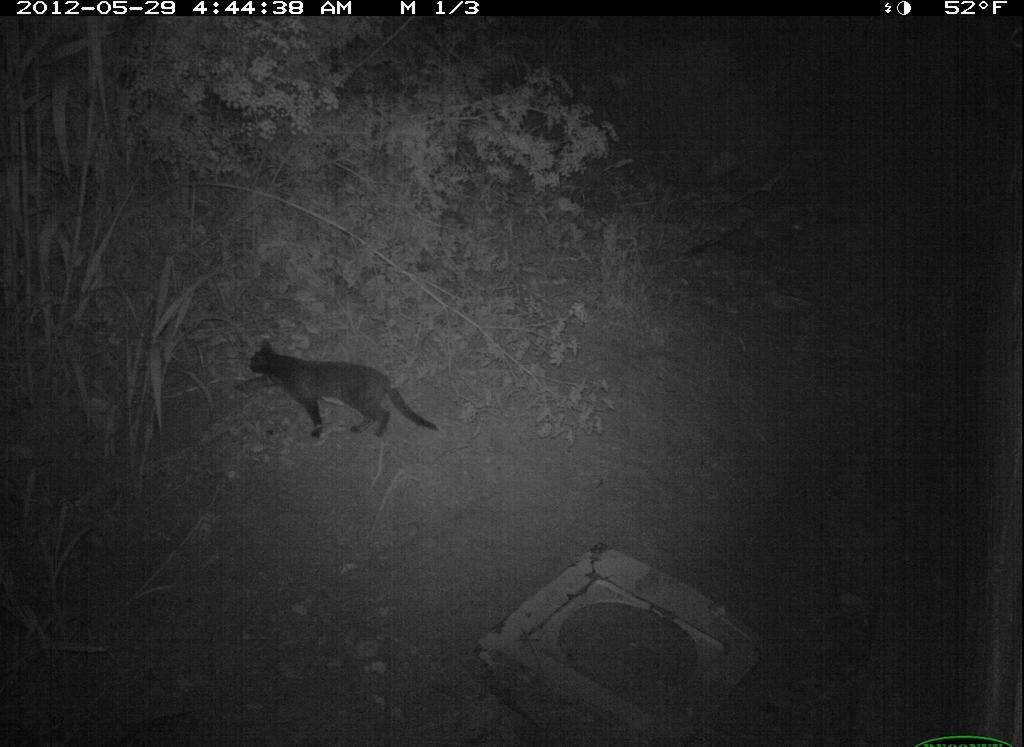cat: (237, 336, 449, 451)
